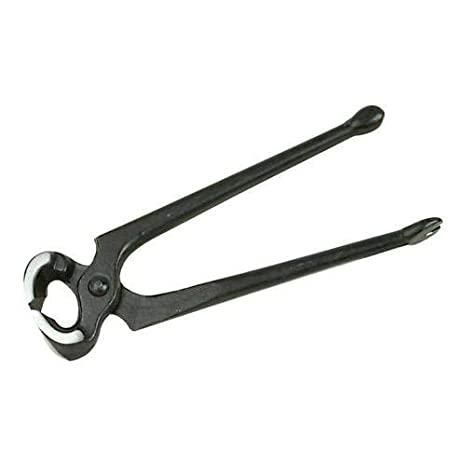Pincers: (14, 102, 449, 370)
